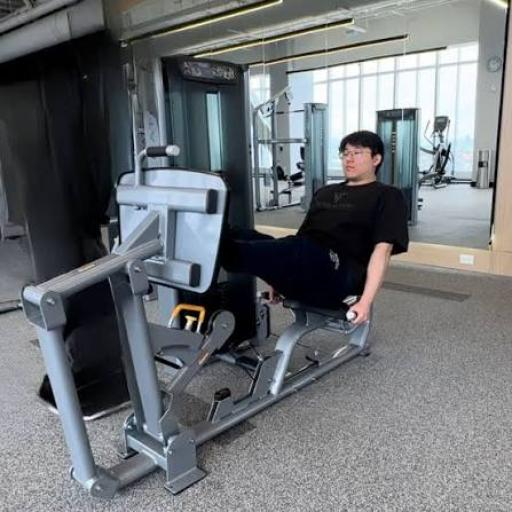Leg Press: (107, 169, 454, 448)
